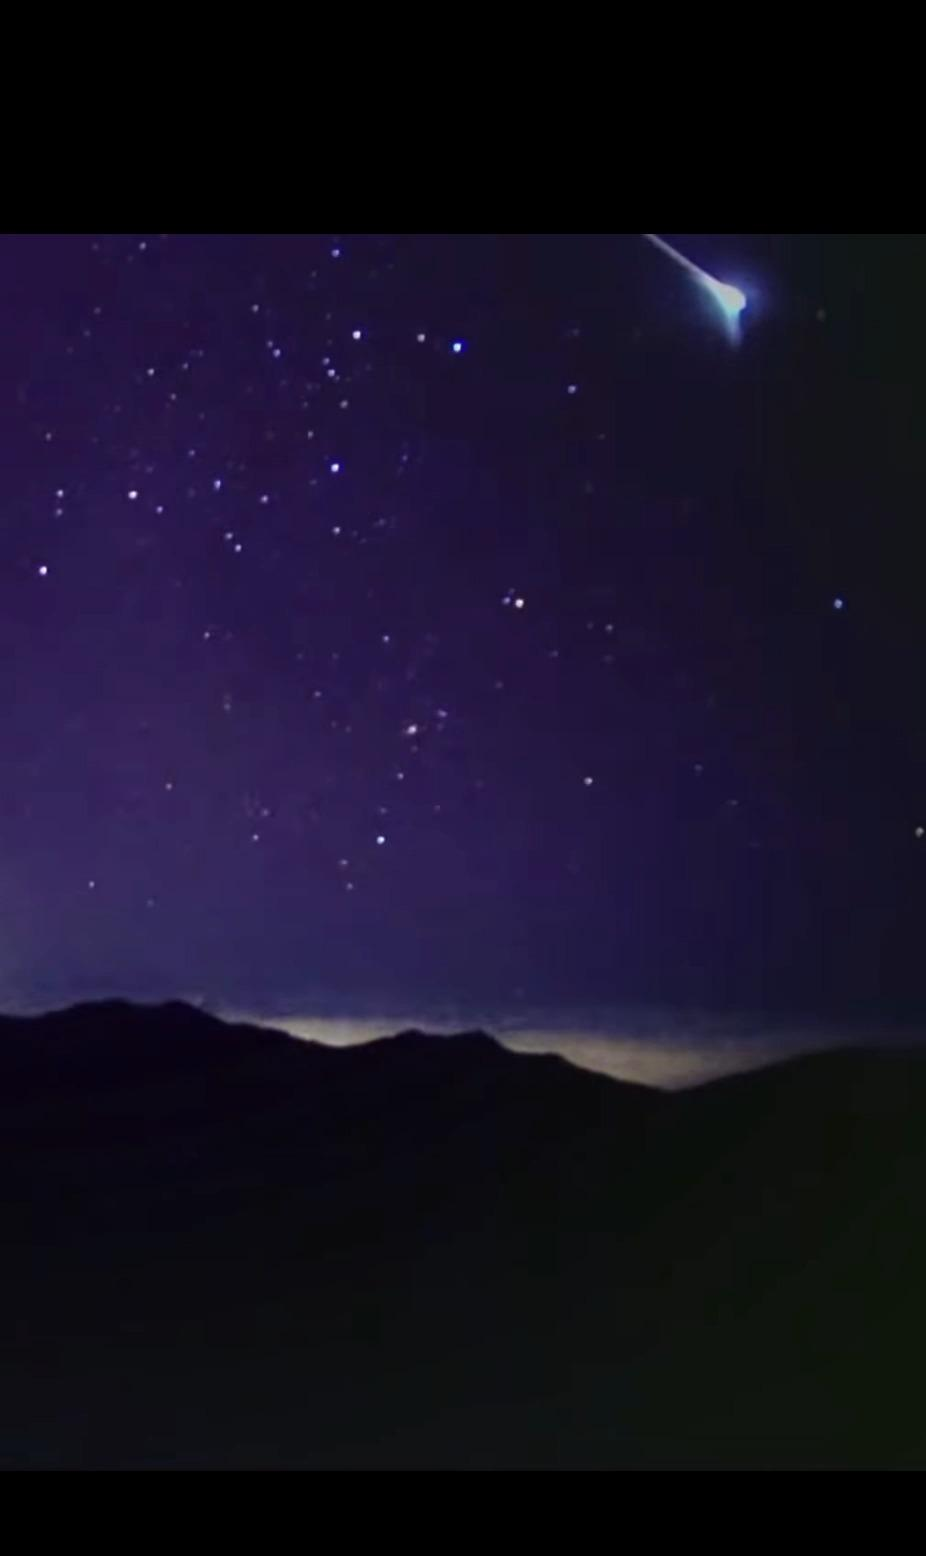meteorite: (632, 227, 771, 345)
